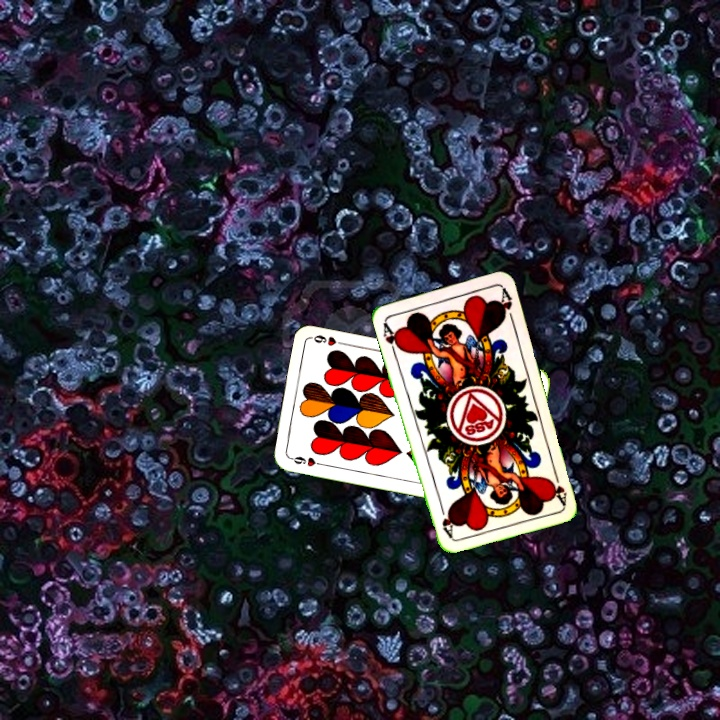H9: (286, 452, 326, 469)
HA: (545, 466, 570, 507), (379, 318, 404, 358)
